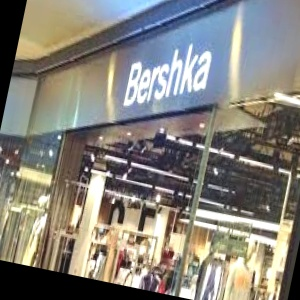bershka: (130, 48, 300, 138)
